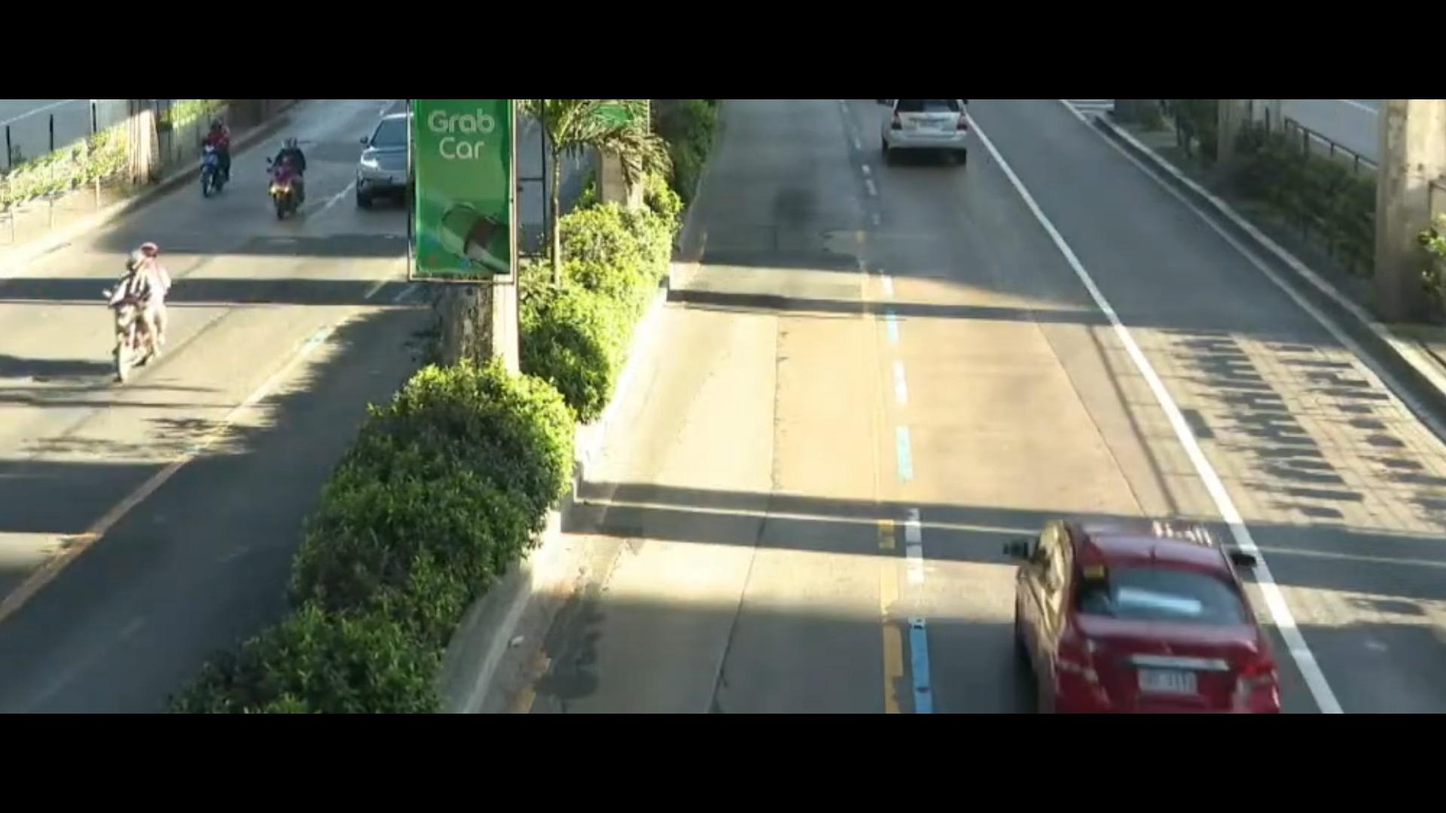Motorcycle: (81, 222, 198, 398), (245, 117, 320, 220), (191, 116, 247, 194)
SUV: (339, 105, 415, 211)
Sedan: (1002, 467, 1290, 709)
